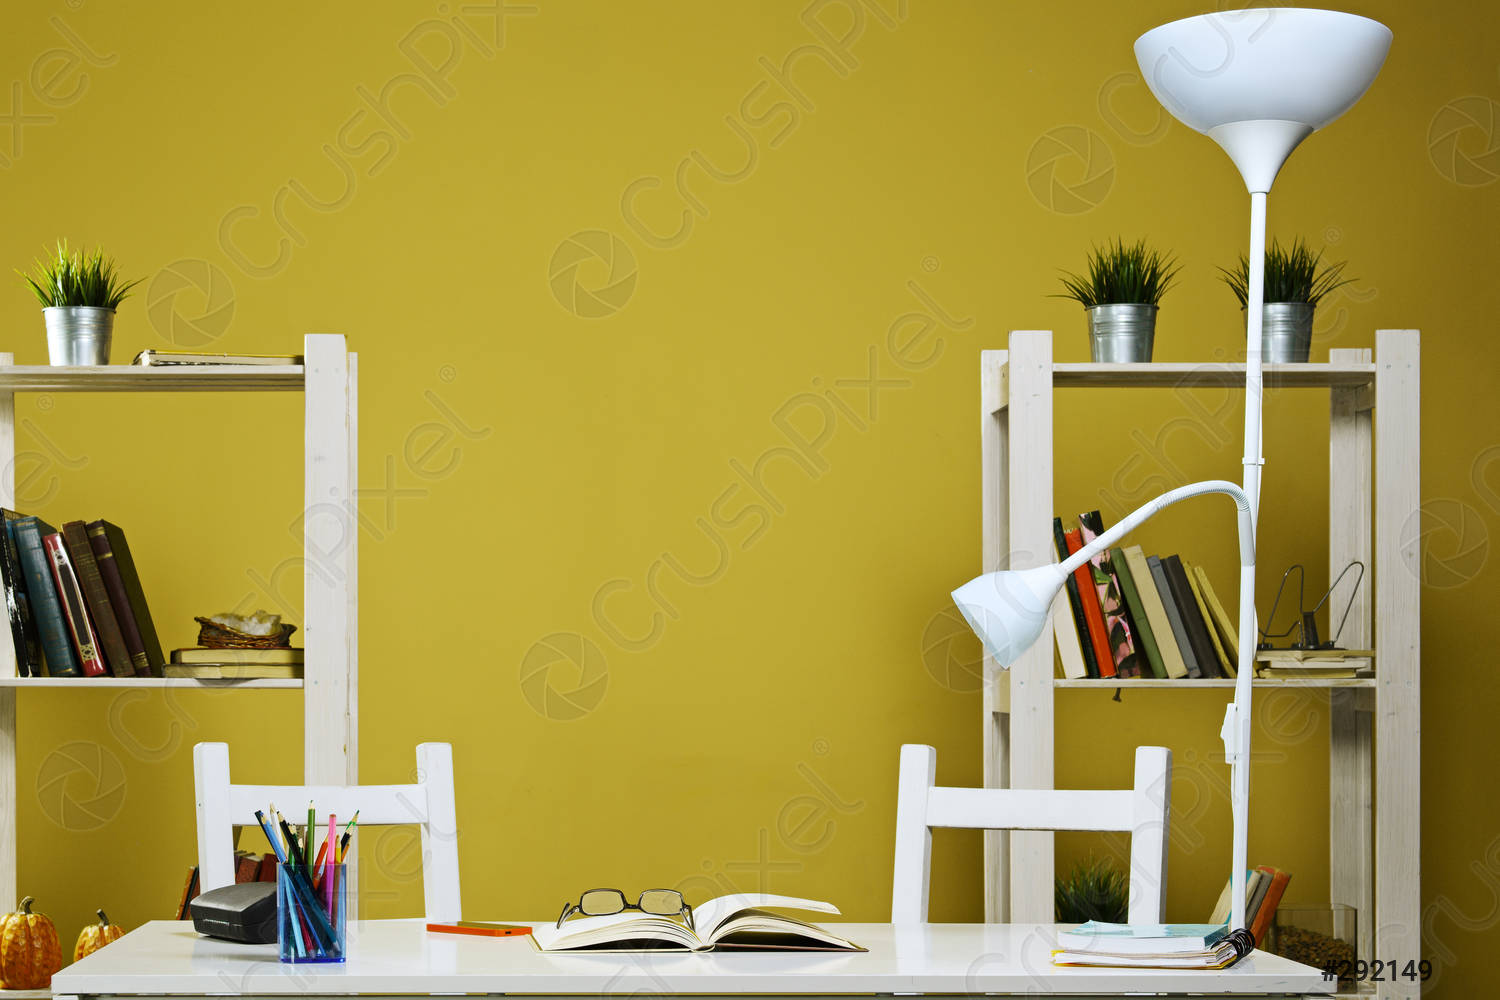Open Book: (533, 884, 856, 953)
